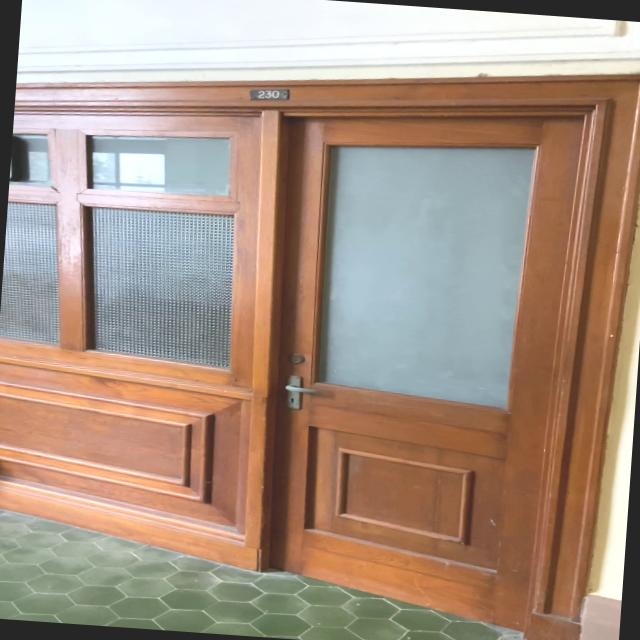room230: (248, 86, 290, 104)
